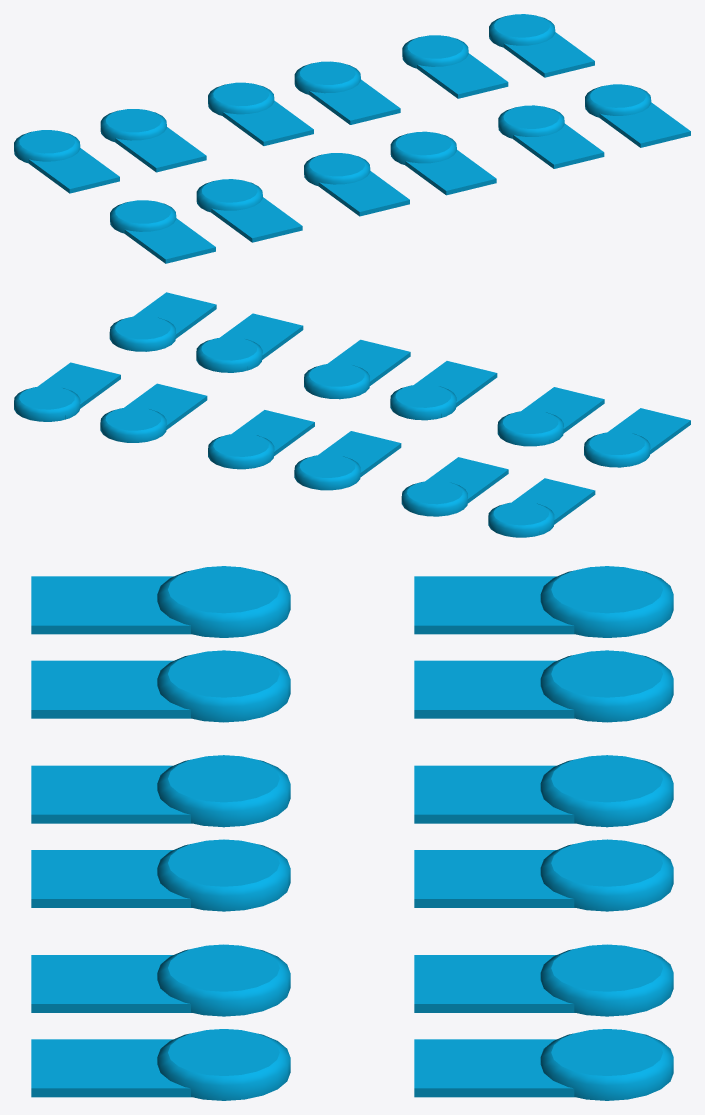
Rendered from Button_W_Grp_03_Lod0.fbx.
The picture shows the model from 3 angles, top to bottom: view 1: azimuth 30°, elevation 25°; view 2: azimuth 150°, elevation 25°; view 3: azimuth 270°, elevation 25°; orthographic projection. The views are drawn at different scales.
Parts seen in each view (by area): view 1: Button_W_Grp_03_Lod0; view 2: Button_W_Grp_03_Lod0; view 3: Button_W_Grp_03_Lod0.
Part boxes in pixels (x1=…): Button_W_Grp_03_Lod0: x1=14, y1=14, x2=690, y2=263; Button_W_Grp_03_Lod0: x1=14, y1=292, x2=690, y2=537; Button_W_Grp_03_Lod0: x1=31, y1=566, x2=673, y2=1100.
Bounding box in the file's own units: 57.29 × 1.06 × 29.97.
